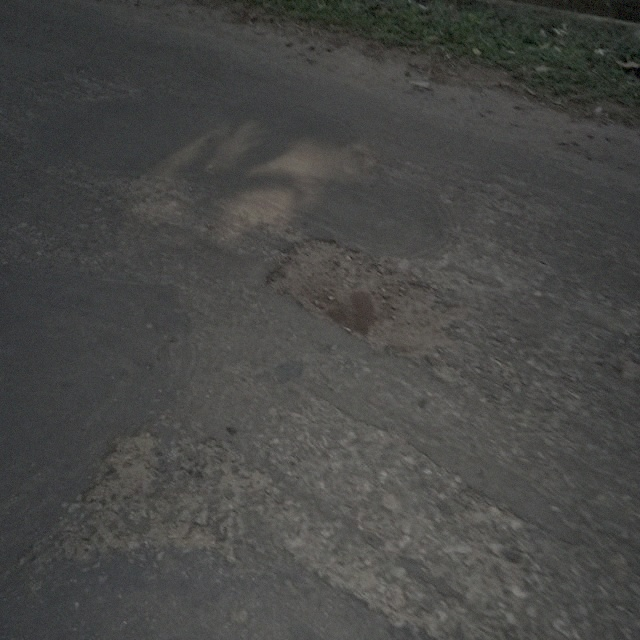pothole: (262, 234, 470, 364), (79, 424, 160, 508)
